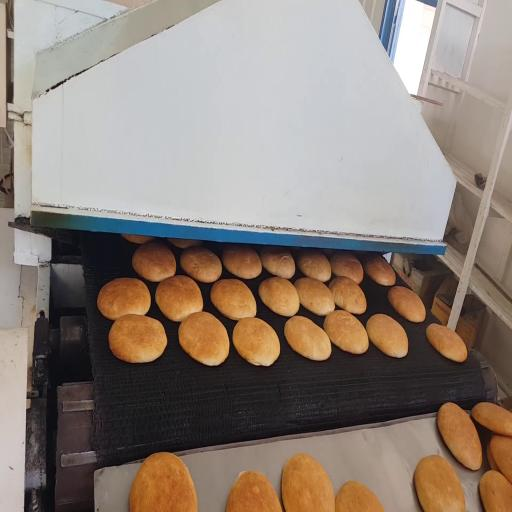bread: (130, 453, 197, 511), (282, 454, 335, 511), (437, 403, 482, 470), (414, 455, 465, 511), (109, 315, 167, 363), (179, 312, 229, 365), (233, 318, 280, 366), (97, 278, 150, 320), (226, 472, 282, 511), (155, 276, 203, 321), (284, 316, 331, 360), (324, 310, 368, 354), (366, 314, 408, 357), (211, 279, 256, 319), (132, 242, 176, 282), (259, 277, 299, 316), (294, 278, 334, 316), (427, 324, 467, 362), (180, 247, 222, 283), (336, 481, 384, 511), (329, 276, 366, 314), (388, 286, 425, 322), (222, 245, 261, 279), (472, 403, 511, 436), (479, 471, 511, 511), (260, 247, 295, 279), (297, 250, 331, 282), (330, 252, 363, 283), (490, 435, 511, 482), (364, 255, 395, 286), (168, 238, 201, 249), (122, 234, 154, 244), (487, 443, 498, 471)
